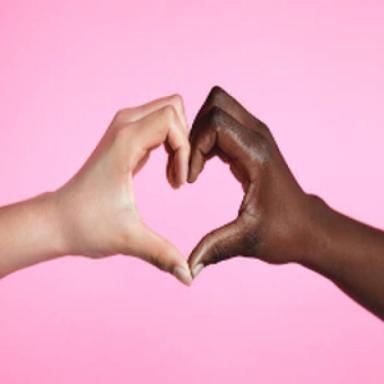normal skin: (188, 87, 384, 320), (0, 95, 192, 284)
